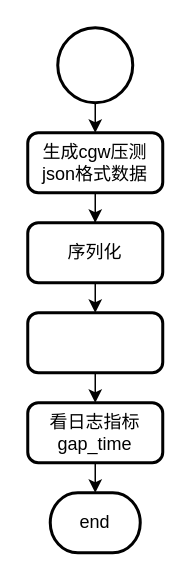
Some shapes in this 189 by 579 pixel diagram are drawn without their labels. The box of each missing label's shape, as (x1, y1, x2, y2) in pixels:
etcd多线程 插入1w数据: (26, 310, 164, 374)
start: (56, 26, 134, 104)
